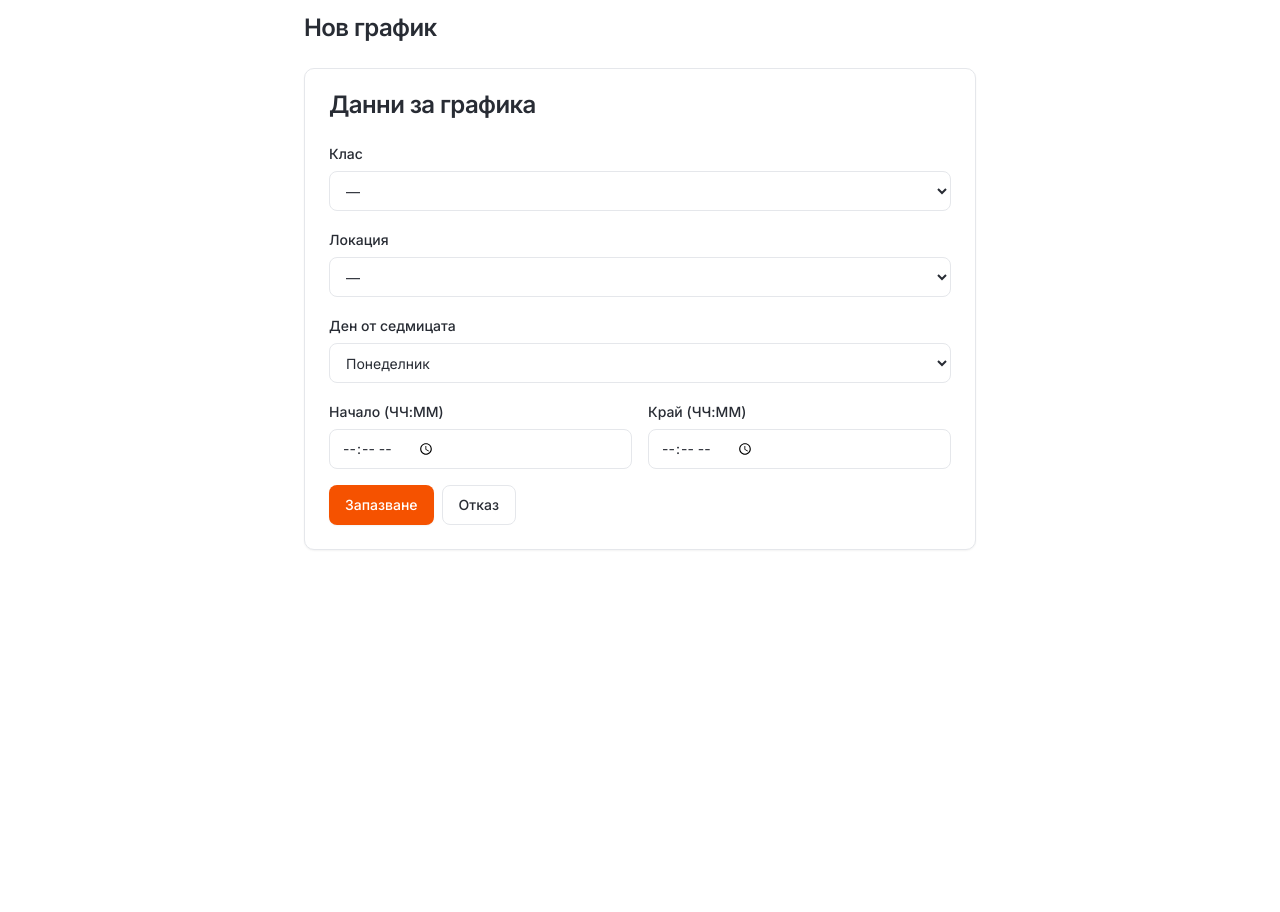
Test: schedule form pages › new: submits, stays on the form, confirms with a toast, and resets
The image size is (1280, 912).
Select "Yoga" in the dropdown with id "classId" at (640,191), box x1=329 y1=171 x2=951 y2=211
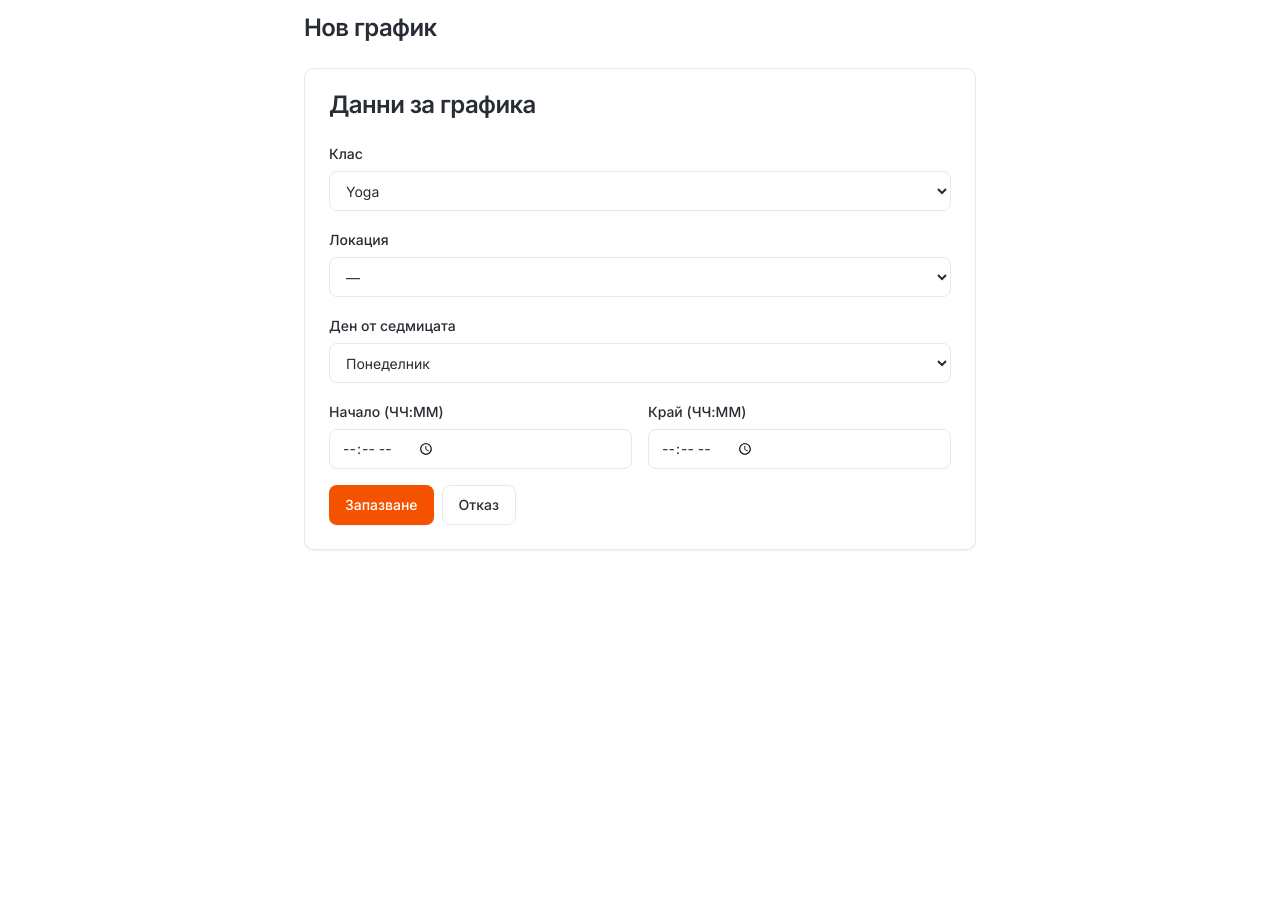
Select "Annex" in the dropdown with id "locationId" at (640,277), box x1=329 y1=257 x2=951 y2=297
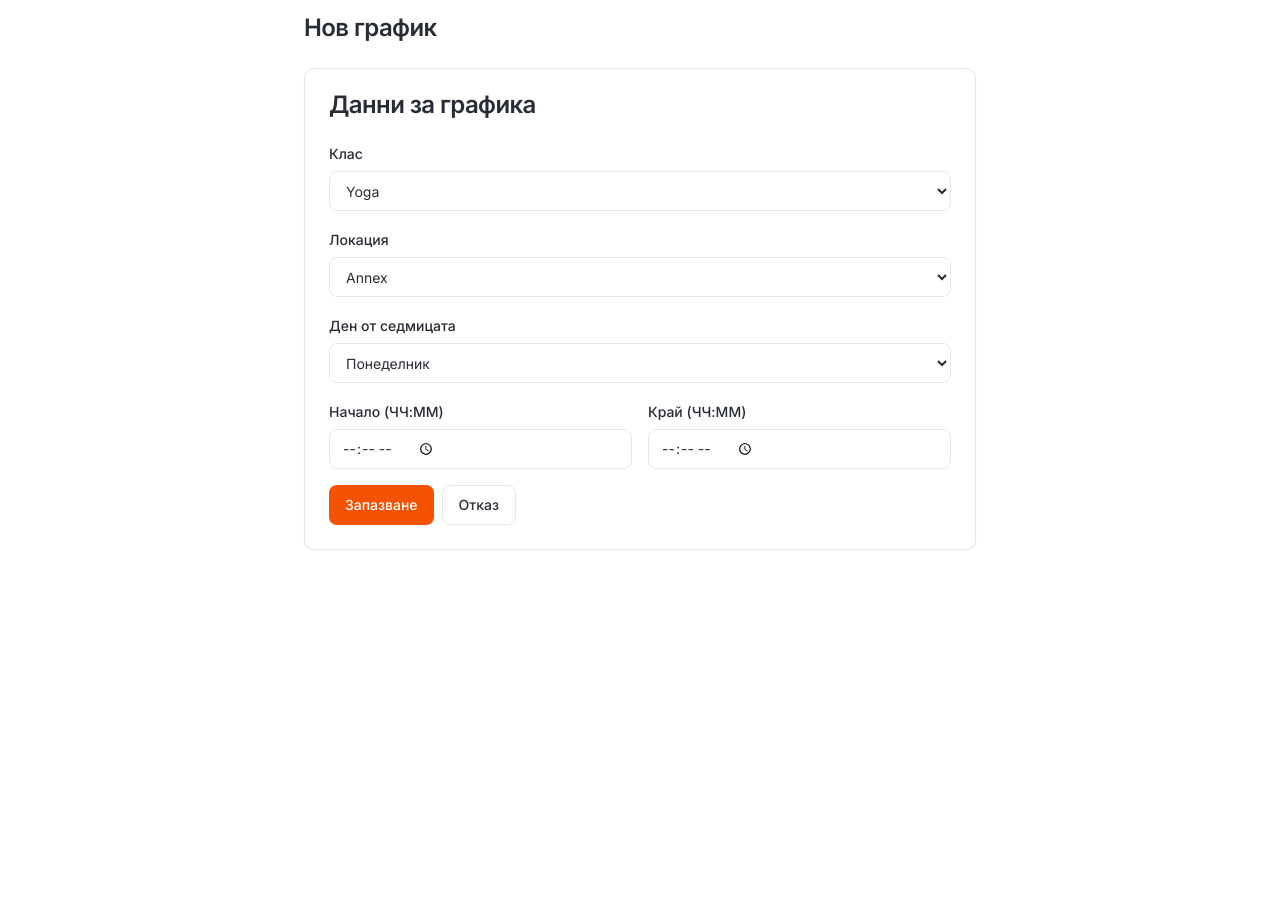
Select "Сряда" in the dropdown with id "dayOfWeek" at (640,363), box x1=329 y1=343 x2=951 y2=383
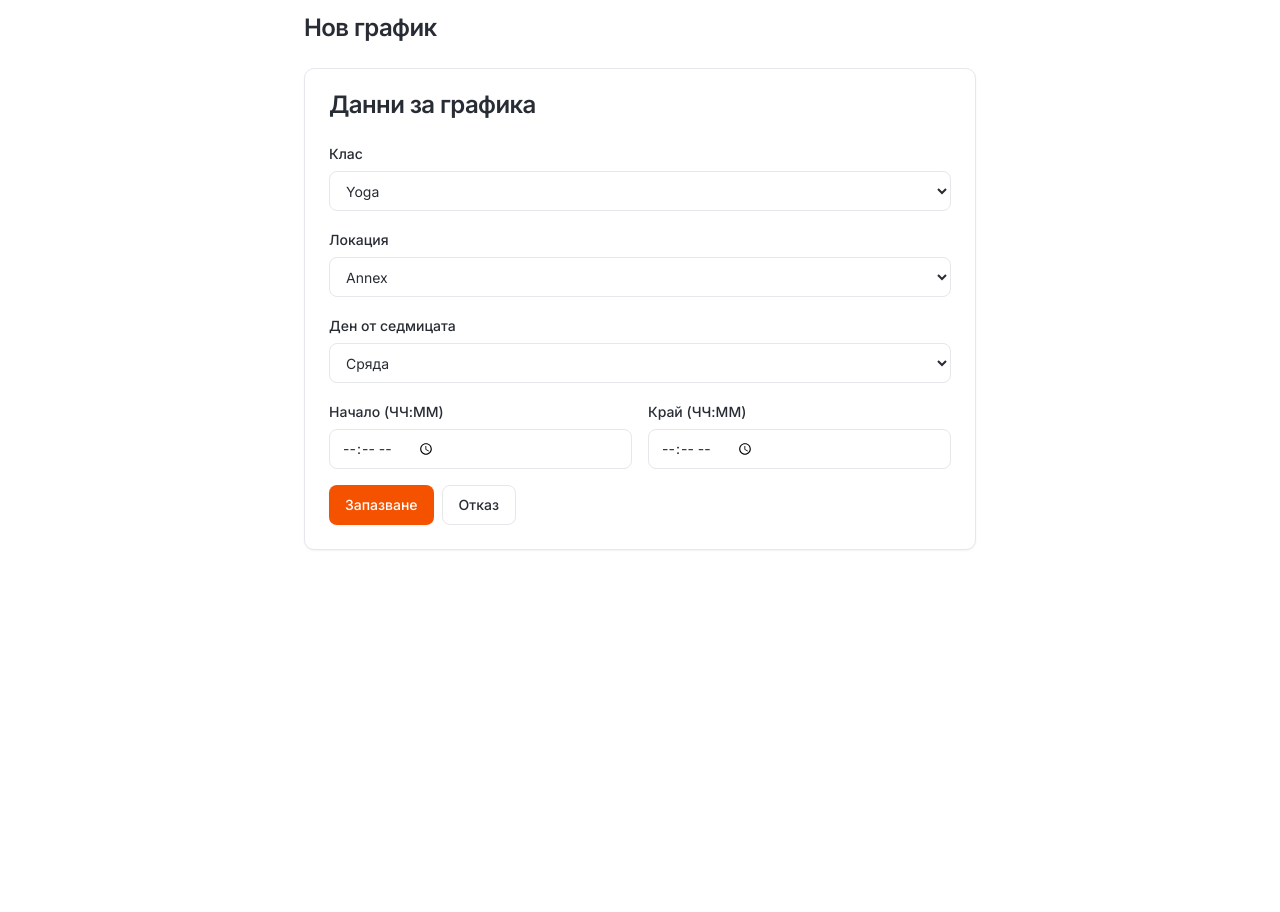
Type "09:00" into the time field with id "startTime" at (480,449), box x1=329 y1=429 x2=632 y2=469
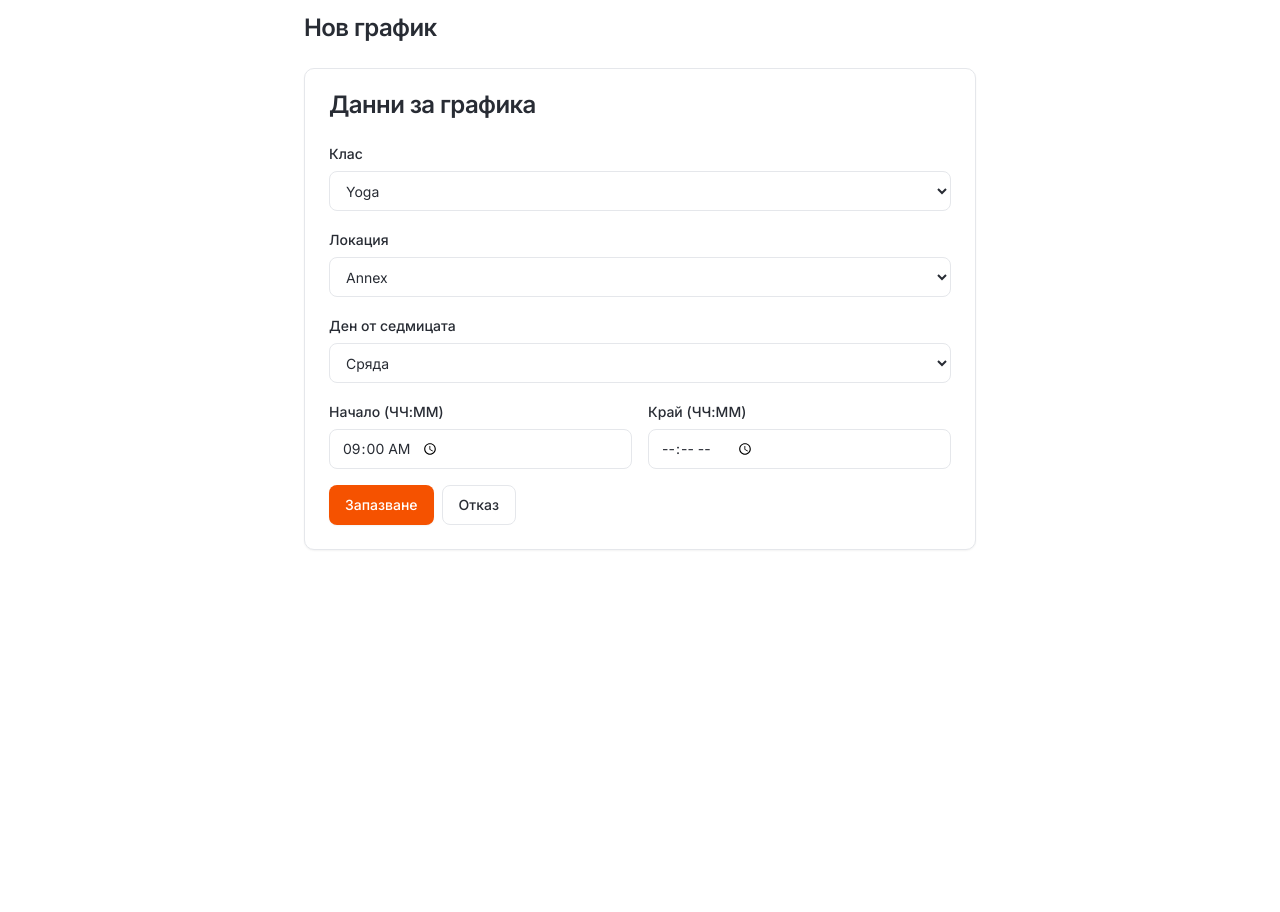
Type "10:30" into the time field with id "endTime" at (800,449), box x1=648 y1=429 x2=951 y2=469
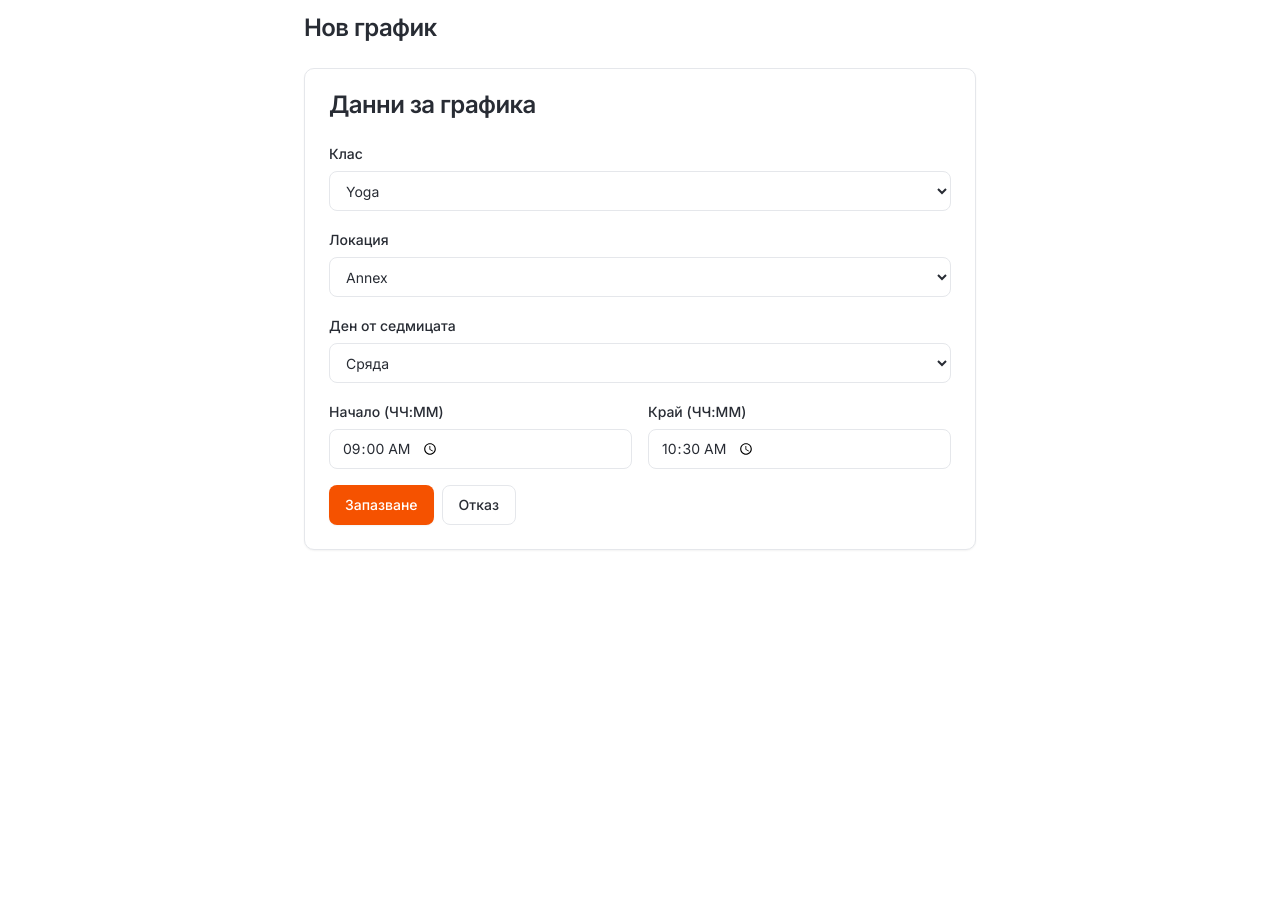
Click the submit button at (381,505), box x1=329 y1=485 x2=434 y2=525
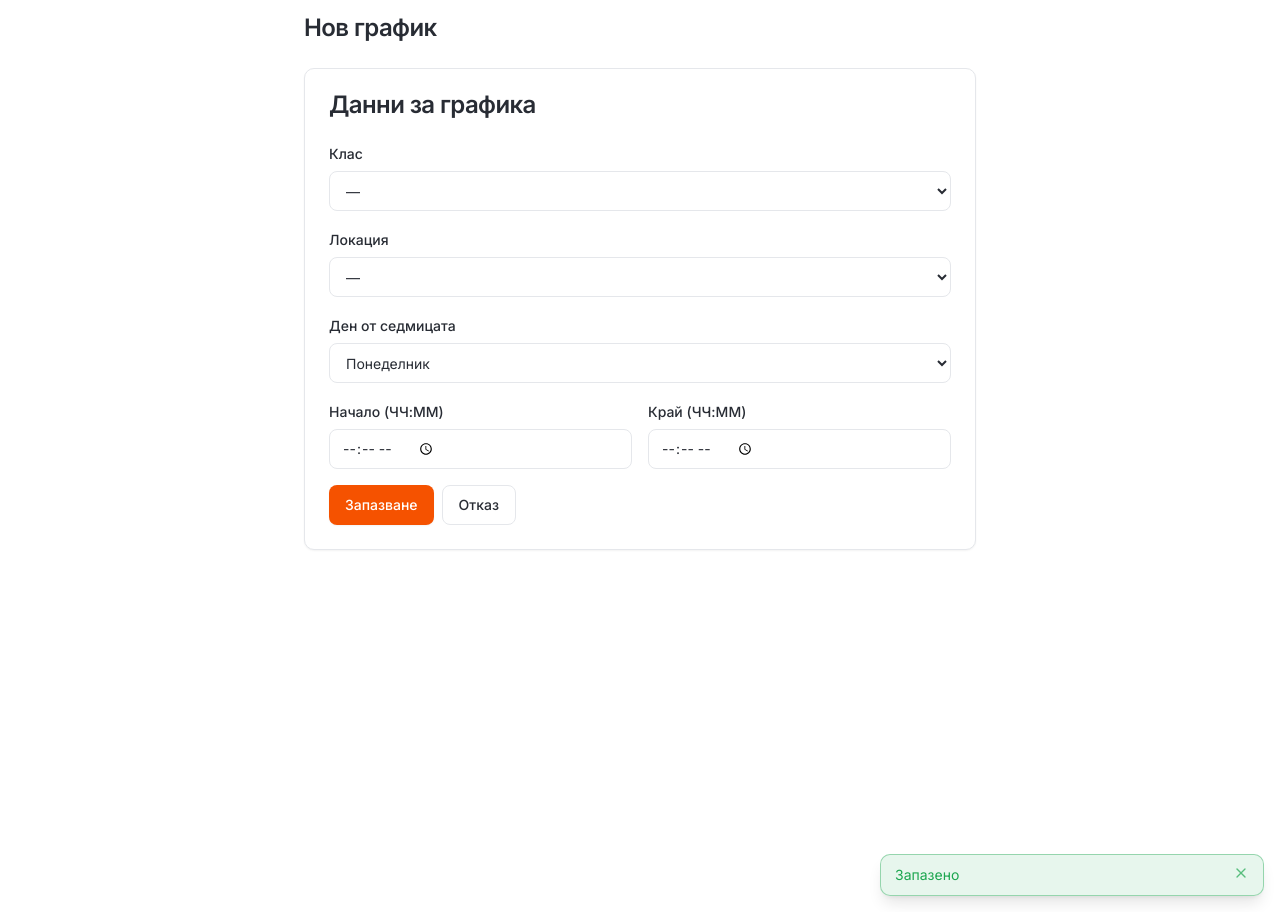
Check: the text "Запазено" is shown, box x1=895 y1=866 x2=959 y2=883
Check: the time field with id "startTime" is empty, box x1=329 y1=429 x2=632 y2=469
